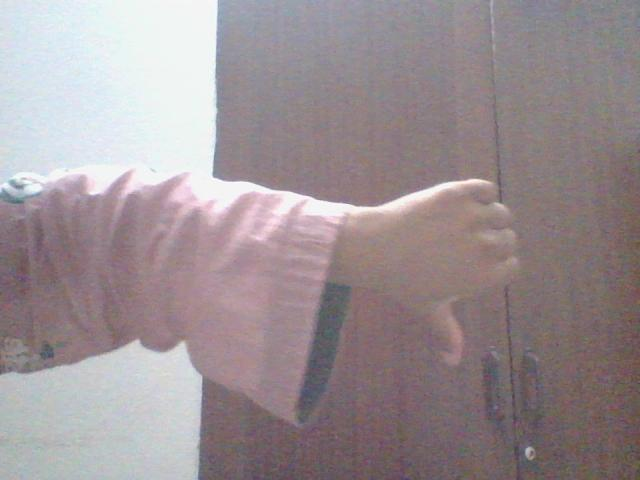thumbs-down: (395, 170, 529, 366)
